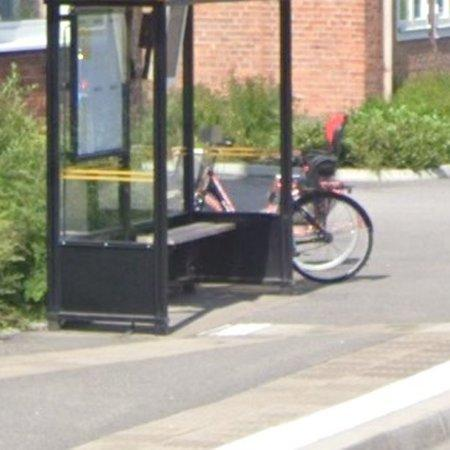bicycles: (287, 113, 374, 283), (185, 151, 248, 215), (262, 172, 286, 216)
